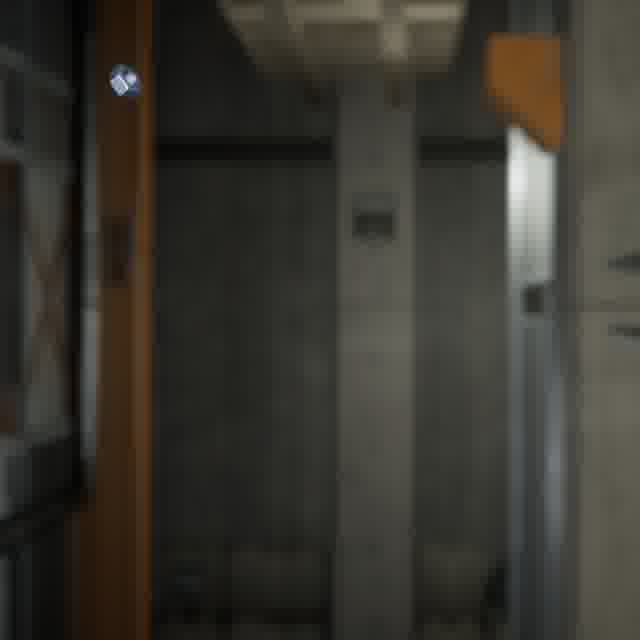nut: (105, 60, 146, 103)
